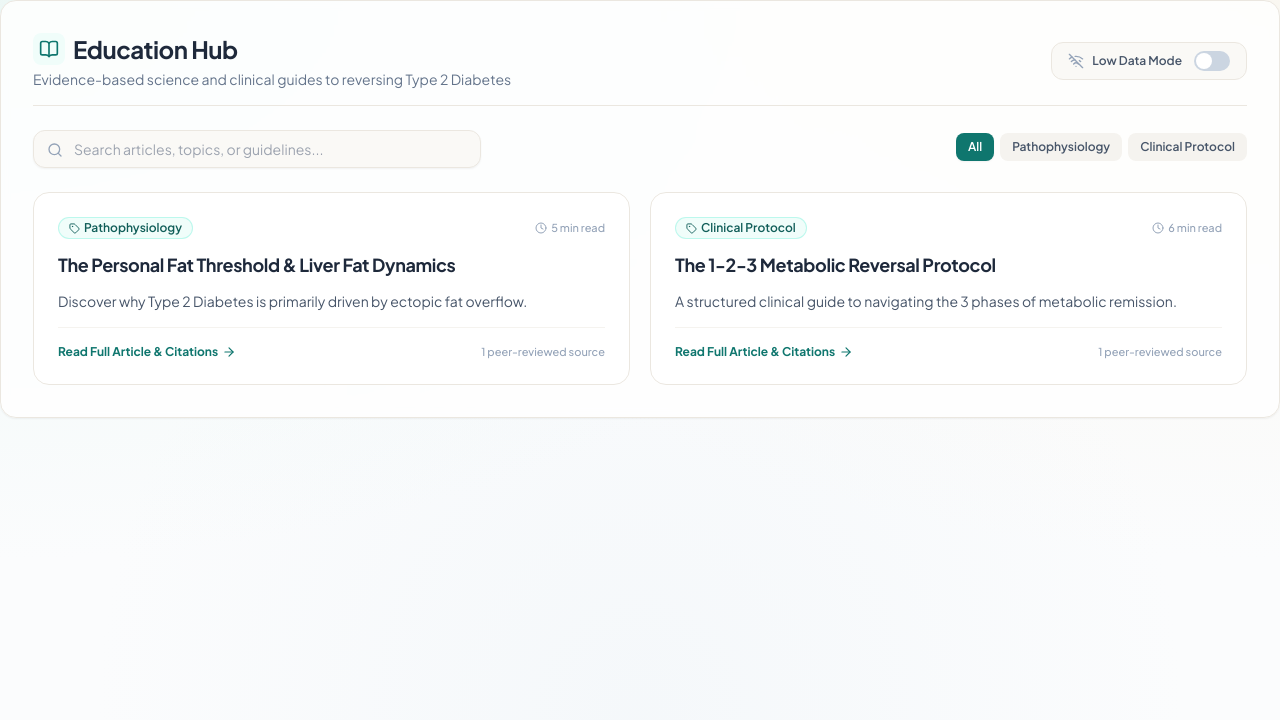
EduHub Component › filters articles using the search input
expect the text "The Personal Fat Threshold & Liver Fat Dynamics" is shown: met, box [58,251,456,279]
Type "reversal protocol" into the field with placeholder "Search articles, topics, or guidelines..." at (257,149), box [33,130,481,168]
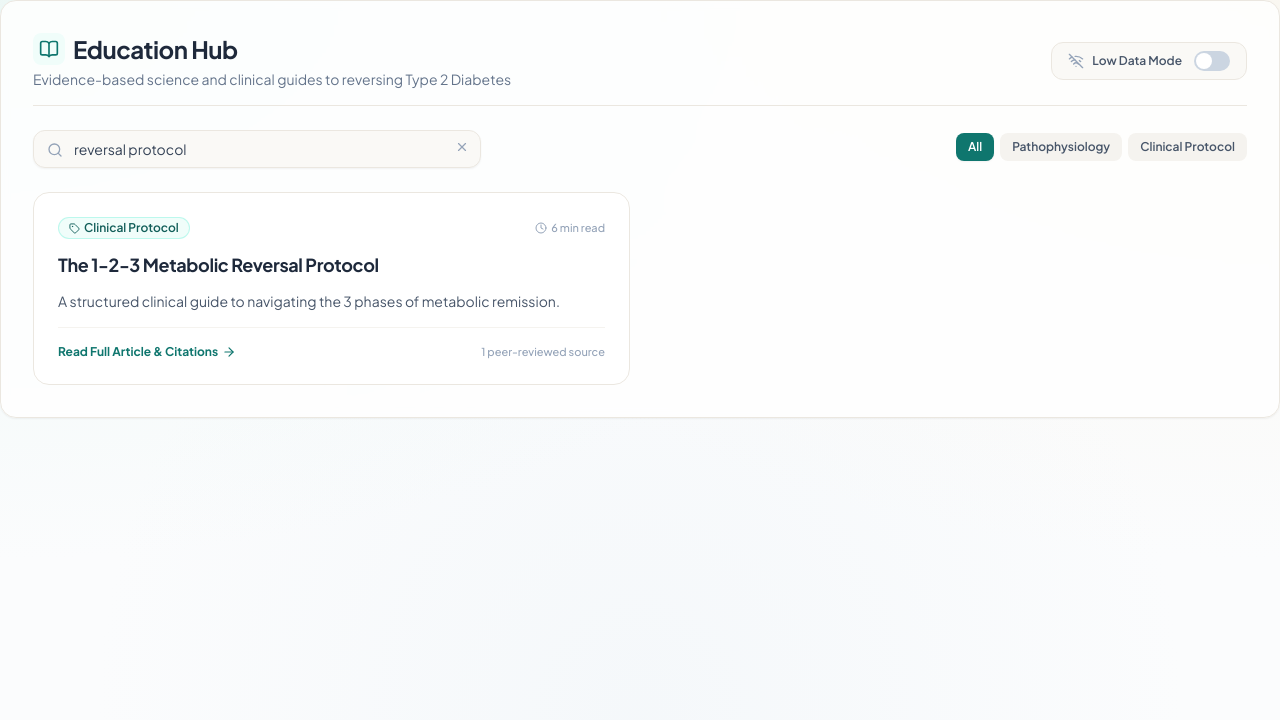
expect the text "The 1-2-3 Metabolic Reversal Protocol" is shown: met, box [58,251,379,279]
expect the button "The Personal Fat Threshold & Liver Fat Dynamics" is gone: met
